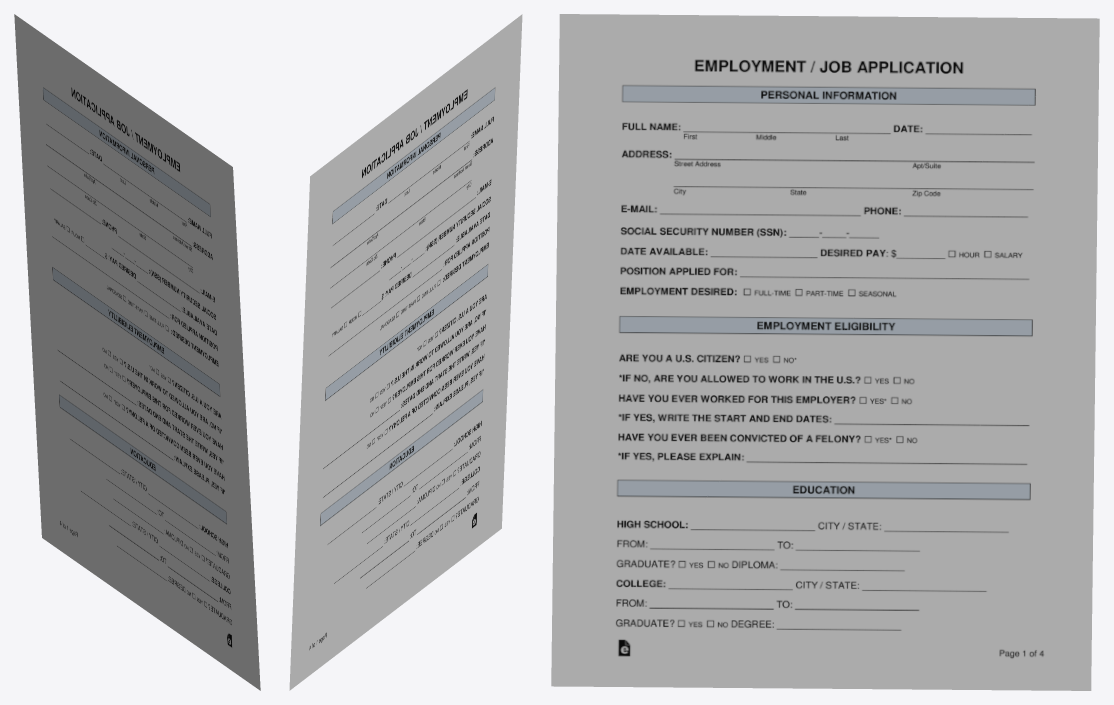
The model's file is jobapplication.glb.
3 renders of one model, left to right at view 1: azimuth 30°, elevation 25°; view 2: azimuth 150°, elevation 25°; view 3: azimuth 270°, elevation 25°, orthographic. The views are drawn at different scales.
Visible parts, largest first — view 1: Plane; view 2: Plane; view 3: Plane.
Boxes of the visible parts, box(x1,y1,x2,y2) form: Plane: box(14, 14, 260, 690); Plane: box(289, 14, 522, 690); Plane: box(551, 14, 1099, 690).
Size of the model in its own units: 0.1051 by 2.02 by 1.51.
1 material, 1 textured.
